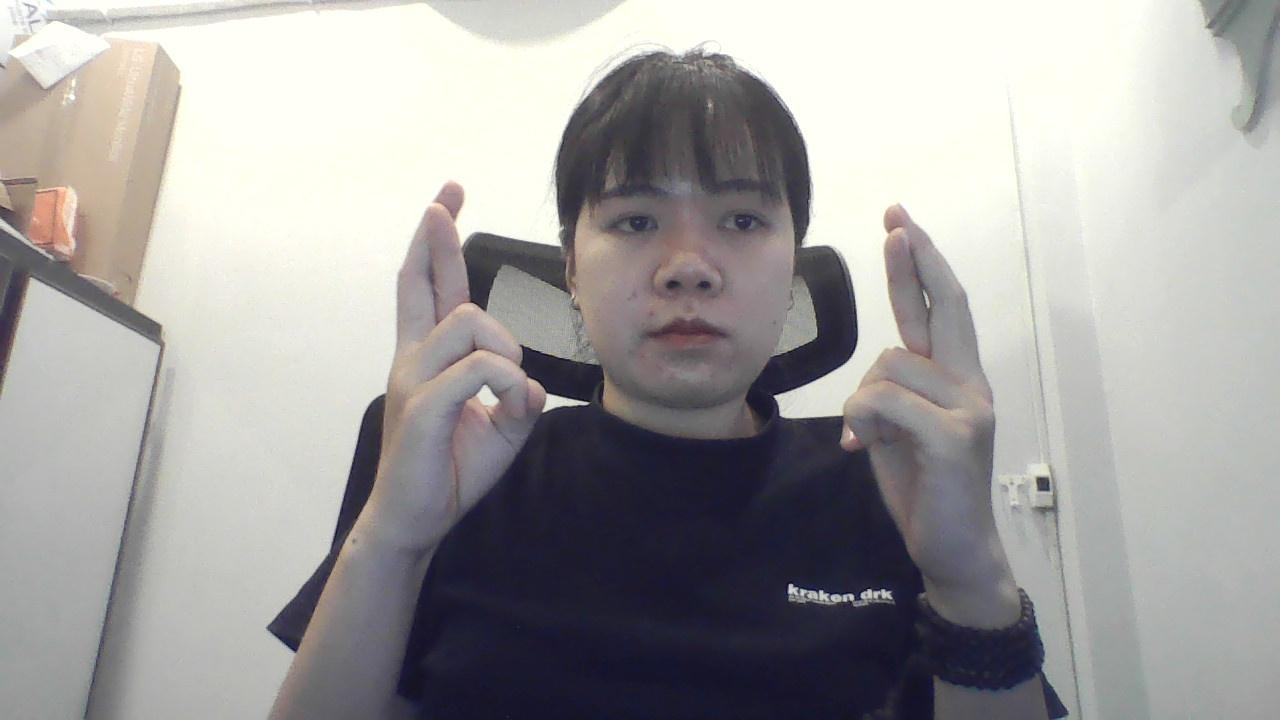R: (826, 190, 1029, 588), (382, 174, 555, 549)
